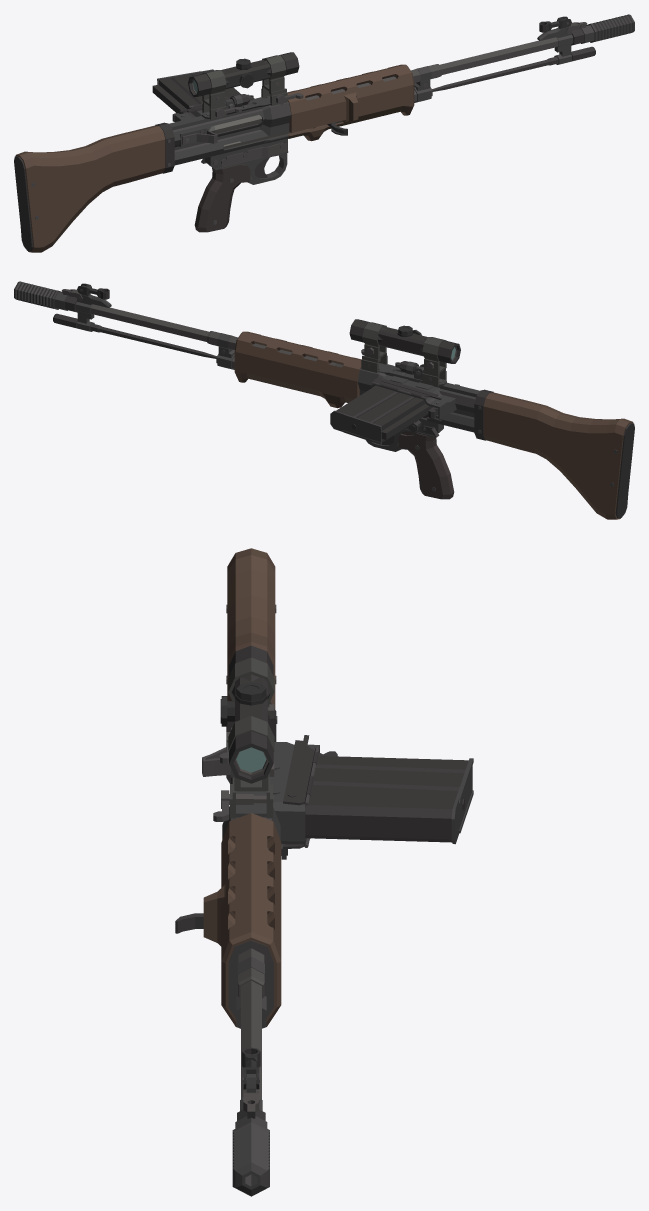
3 views of the same model, one above another, from view 1: azimuth 30°, elevation 25°; view 2: azimuth 150°, elevation 25°; view 3: azimuth 270°, elevation 25° (orthographic). The views are drawn at different scales.
Parts seen in each view (by area): view 1: Cube.014, Cube.019, Cylinder.010, Cube.011, Cube.015, Cube.028, Cube, Cylinder.003, Cube.030, Cylinder.034, Cube.013, Cube.025 (+1 smaller); view 2: Cube.014, Cube.019, Cylinder.010, Cube.028, Cube.011, Cube.015, Cylinder.003, Cube.029, Cube.030, Cube.025, Cylinder.009, Cube; view 3: Cube.014, Cube.028, Cylinder.010, Cube.019, Cylinder.003, Cylinder.009, Cube.029.
Boxes of the visible parts, left/top/right/bottom form: Cube.014: left=14, top=64, right=414, bottom=252; Cube.019: left=169, top=18, right=573, bottom=165; Cylinder.010: left=188, top=52, right=303, bottom=119; Cube.011: left=194, top=164, right=250, bottom=232; Cube.015: left=14, top=122, right=174, bottom=251; Cube.028: left=152, top=70, right=241, bottom=113; Cube: left=205, top=138, right=288, bottom=184; Cylinder.003: left=581, top=14, right=634, bottom=43; Cube.030: left=172, top=56, right=558, bottom=135; Cylinder.034: left=214, top=115, right=290, bottom=149; Cube.013: left=221, top=142, right=286, bottom=167; Cube.025: left=202, top=94, right=270, bottom=118; Cube.014: left=234, top=331, right=634, bottom=519; Cube.019: left=75, top=285, right=479, bottom=432; Cylinder.010: left=349, top=319, right=460, bottom=386; Cube.028: left=336, top=385, right=432, bottom=442; Cube.011: left=398, top=431, right=454, bottom=499; Cube.015: left=474, top=389, right=634, bottom=518; Cylinder.003: left=14, top=281, right=67, bottom=310; Cube.029: left=330, top=410, right=381, bottom=444; Cube.030: left=90, top=323, right=438, bottom=418; Cube.025: left=378, top=361, right=446, bottom=385; Cylinder.009: left=373, top=377, right=441, bottom=421; Cube: left=366, top=419, right=443, bottom=451; Cube.014: left=203, top=548, right=281, bottom=1028; Cube.028: left=305, top=756, right=468, bottom=842; Cylinder.010: left=213, top=645, right=274, bottom=821; Cube.019: left=222, top=727, right=319, bottom=1110; Cylinder.003: left=232, top=1116, right=269, bottom=1196; Cylinder.009: left=283, top=735, right=318, bottom=848; Cube.029: left=451, top=758, right=473, bottom=844.
Size of the model in its own units: 114 by 28.29 by 24.09.
